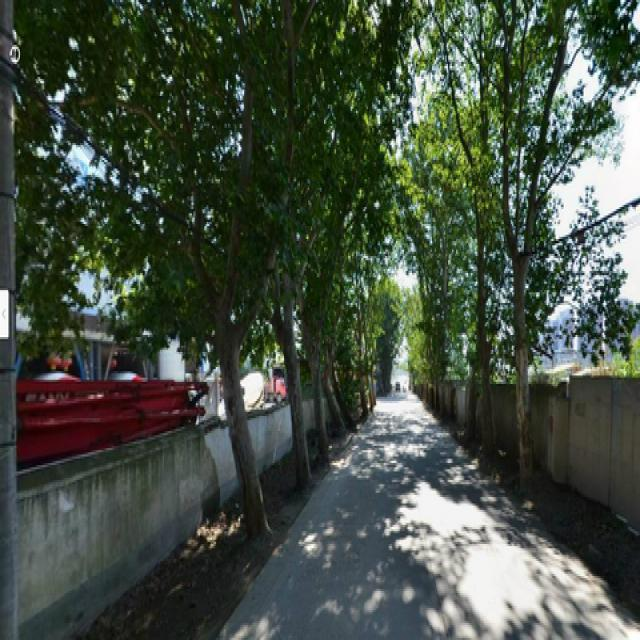meta: (129, 23, 267, 557), (479, 17, 553, 480), (278, 28, 314, 520), (415, 136, 465, 408)
